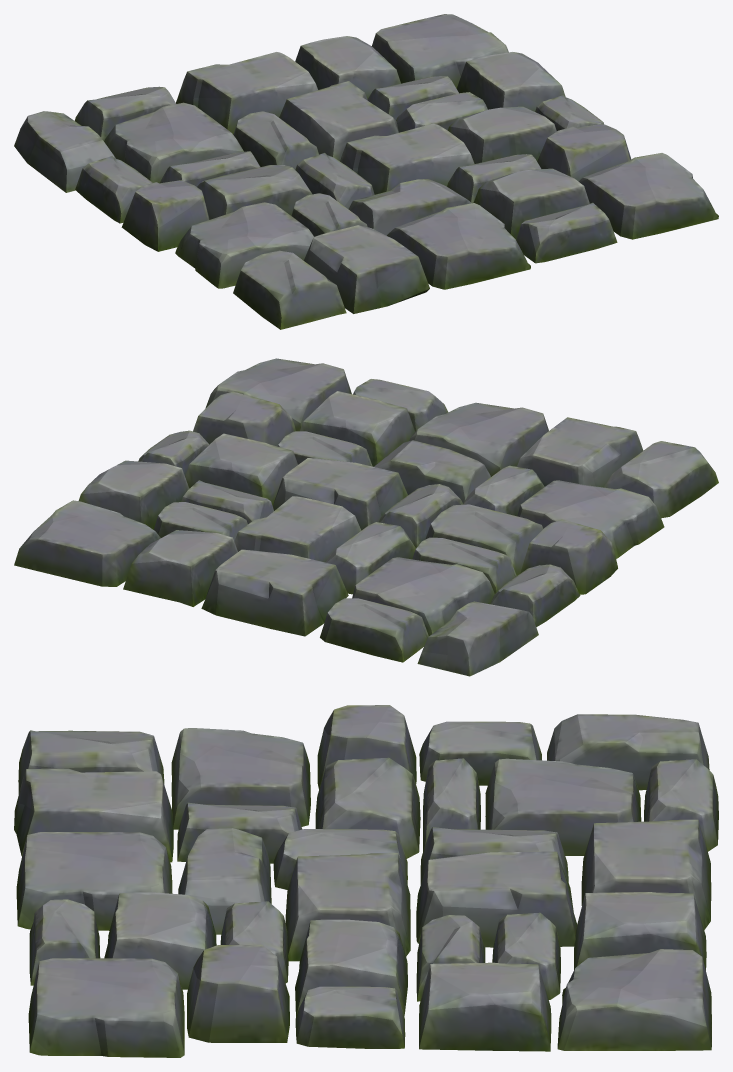
Rendered from sn_rock_path_square_wide.glb.
The picture shows the model from 3 angles, top to bottom: view 1: azimuth 30°, elevation 25°; view 2: azimuth 150°, elevation 25°; view 3: azimuth 270°, elevation 25°; orthographic projection. The views are drawn at different scales.
Visible parts, largest first — view 1: RockPath_Square_Wide; view 2: RockPath_Square_Wide; view 3: RockPath_Square_Wide.
Part boxes in pixels (x1,y1,x2,y2): RockPath_Square_Wide: (14, 14, 718, 329); RockPath_Square_Wide: (14, 358, 718, 676); RockPath_Square_Wide: (14, 705, 718, 1057).
Bounding box in the file's own units: 2.05 × 0.1763 × 1.99.
Materials: 1 (1 with a texture image).
